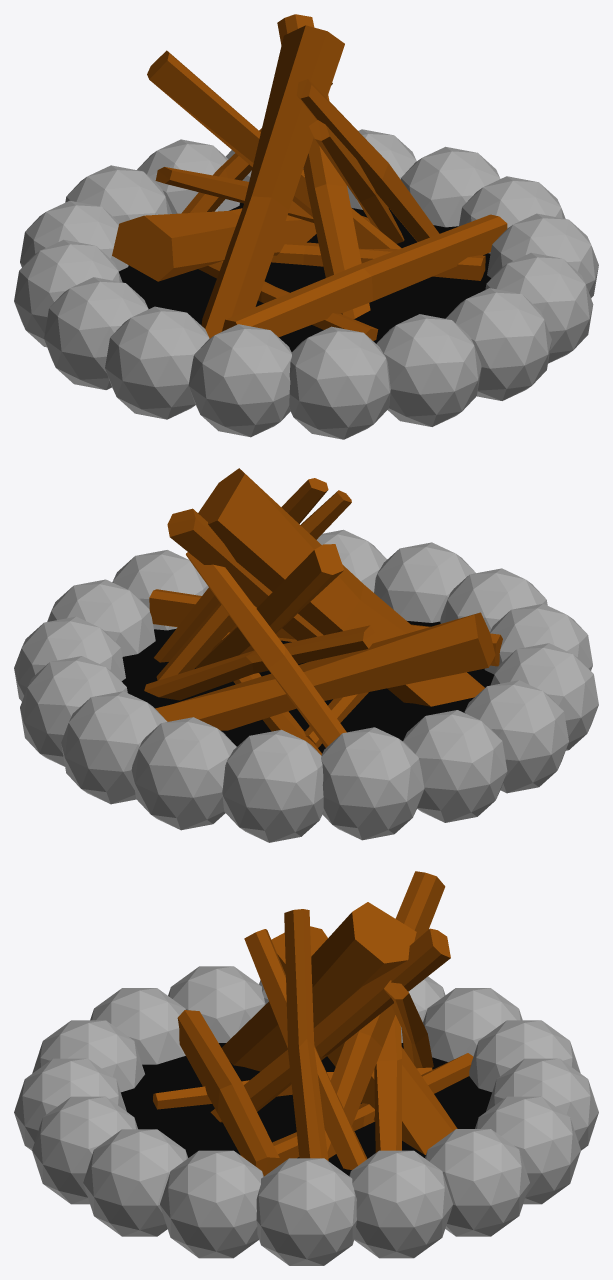
The model's file is CampFire.fbx.
3 views of the same model, one above another, from view 1: azimuth 30°, elevation 25°; view 2: azimuth 150°, elevation 25°; view 3: azimuth 270°, elevation 25° (orthographic).
Parts seen in each view (by area): view 1: Cube.002, Cube.009, Circle, Icosphere.015, Icosphere.016, Icosphere.014, Icosphere.001, Icosphere.013, Cube.008, Icosphere, Cube.010, Icosphere.012 (+15 smaller); view 2: Cube.002, Cube.008, Icosphere.005, Icosphere.004, Icosphere.006, Icosphere.002, Icosphere.007, Icosphere, Circle, Cube.007, Icosphere.008, Icosphere.014 (+15 smaller); view 3: Circle, Cube.002, Icosphere.010, Icosphere.011, Icosphere.009, Icosphere.008, Icosphere.012, Cube.011, Cube.006, Icosphere.013, Icosphere.007, Cube.009 (+15 smaller).
Boxes of the visible parts, <box> form: Cube.002: <box>201,25,344,338</box>; Cube.009: <box>222,214,507,337</box>; Circle: <box>119,202,490,351</box>; Icosphere.015: <box>289,326,390,439</box>; Icosphere.016: <box>188,324,291,437</box>; Icosphere.014: <box>376,314,481,426</box>; Icosphere.001: <box>105,306,209,419</box>; Icosphere.013: <box>445,288,551,400</box>; Cube.008: <box>112,208,316,281</box>; Icosphere: <box>44,277,148,389</box>; Cube.010: <box>147,50,401,249</box>; Icosphere.012: <box>485,252,593,363</box>; Cube.002: <box>198,468,484,706</box>; Cube.008: <box>155,612,495,730</box>; Icosphere.005: <box>222,729,323,842</box>; Icosphere.004: <box>321,727,424,840</box>; Icosphere.006: <box>131,717,236,830</box>; Icosphere.002: <box>403,710,507,822</box>; Icosphere.007: <box>61,691,167,804</box>; Icosphere: <box>464,680,568,793</box>; Circle: <box>122,621,494,753</box>; Cube.007: <box>186,552,346,747</box>; Icosphere.008: <box>20,656,127,766</box>; Icosphere.014: <box>374,542,475,622</box>; Circle: <box>121,1043,491,1175</box>; Cube.002: <box>222,902,416,1071</box>; Icosphere.010: <box>256,1158,356,1265</box>; Icosphere.011: <box>160,1150,263,1258</box>; Icosphere.009: <box>349,1150,452,1258</box>; Icosphere.008: <box>425,1129,529,1236</box>; Icosphere.012: <box>83,1129,187,1236</box>; Cube.011: <box>284,909,328,1160</box>; Cube.006: <box>210,928,450,1122</box>; Icosphere.013: <box>32,1096,137,1204</box>; Icosphere.007: <box>475,1096,580,1204</box>; Cube.009: <box>177,1010,279,1176</box>.
Bounding box in the file's own units: 307 × 162 × 310.
